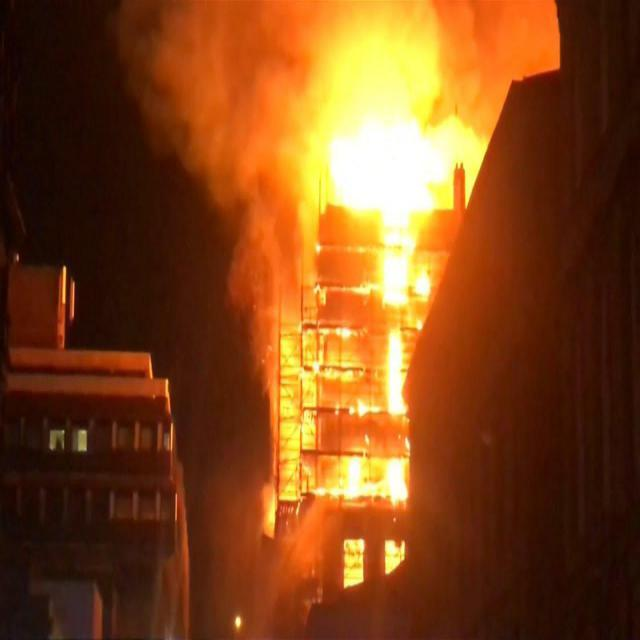Fire: (280, 72, 487, 524)
